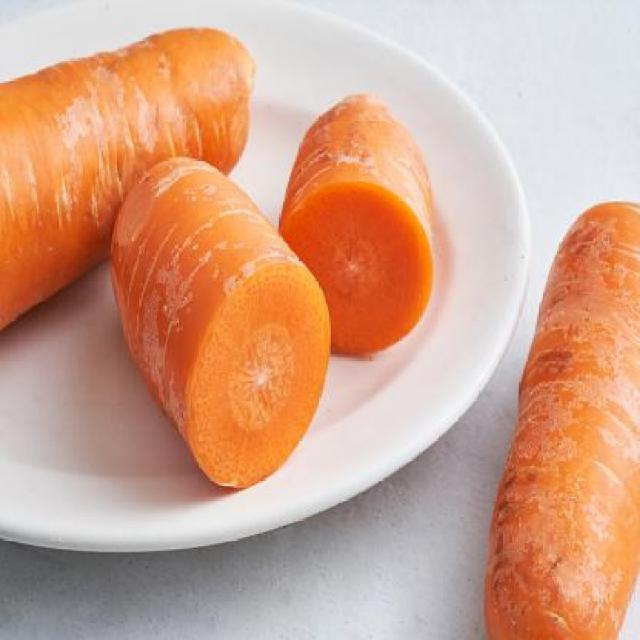carrot: (1, 24, 260, 339), (107, 154, 335, 494), (481, 193, 640, 640), (274, 86, 440, 358)
